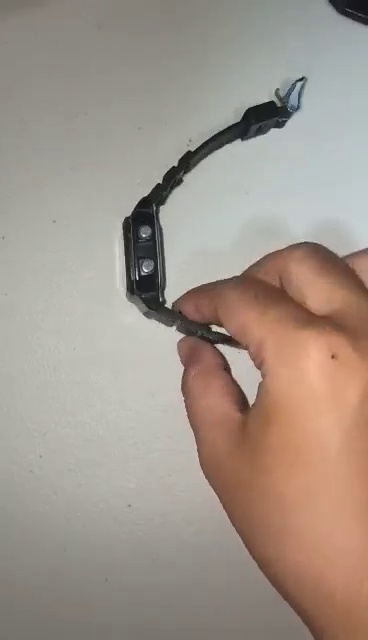watch: (122, 75, 304, 354)
